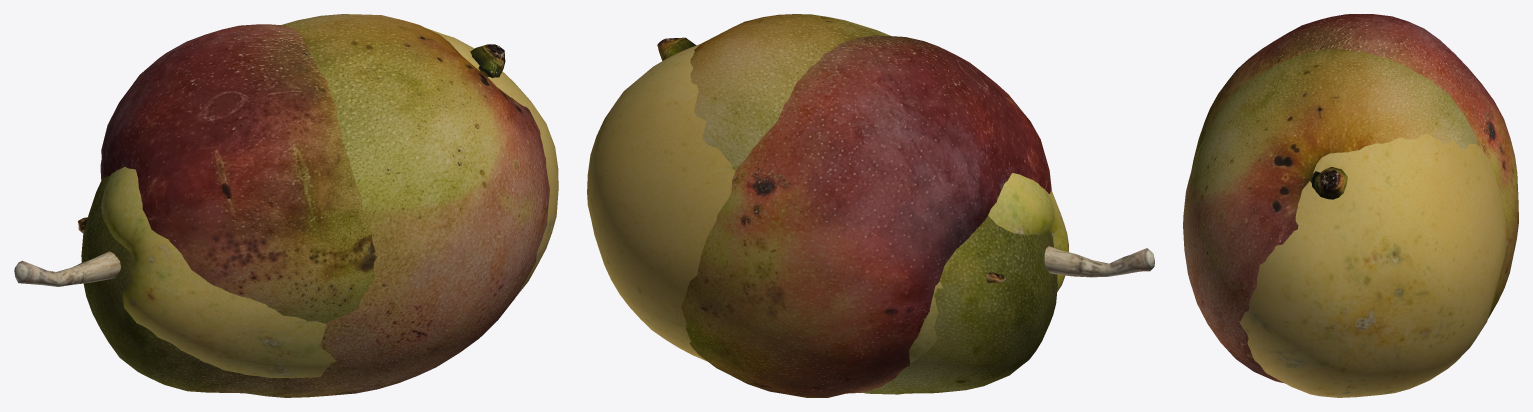
File: kiri_mangue.gltf
3 renders of one model, left to right at view 1: azimuth 30°, elevation 25°; view 2: azimuth 150°, elevation 25°; view 3: azimuth 270°, elevation 25°, orthographic. The views are drawn at different scales.
Parts seen in each view (by area): view 1: A114_Mango, A115_Mango, A29_Mango; view 2: A115_Mango, A29_Mango, A114_Mango; view 3: A29_Mango, A114_Mango, A115_Mango.
Part boxes in pixels (box(x1,y1,x2,y2)): A114_Mango: box(81, 14, 549, 397); A115_Mango: box(78, 24, 377, 323); A29_Mango: box(14, 28, 558, 378); A115_Mango: box(681, 35, 1051, 397); A29_Mango: box(587, 44, 1154, 362); A114_Mango: box(657, 14, 1057, 394); A29_Mango: box(1240, 134, 1506, 397); A114_Mango: box(1183, 49, 1478, 383); A115_Mango: box(1191, 14, 1518, 318).
Size of the model in its own units: 0.1723 by 0.1055 by 0.1025.
3 materials, 3 textured.
